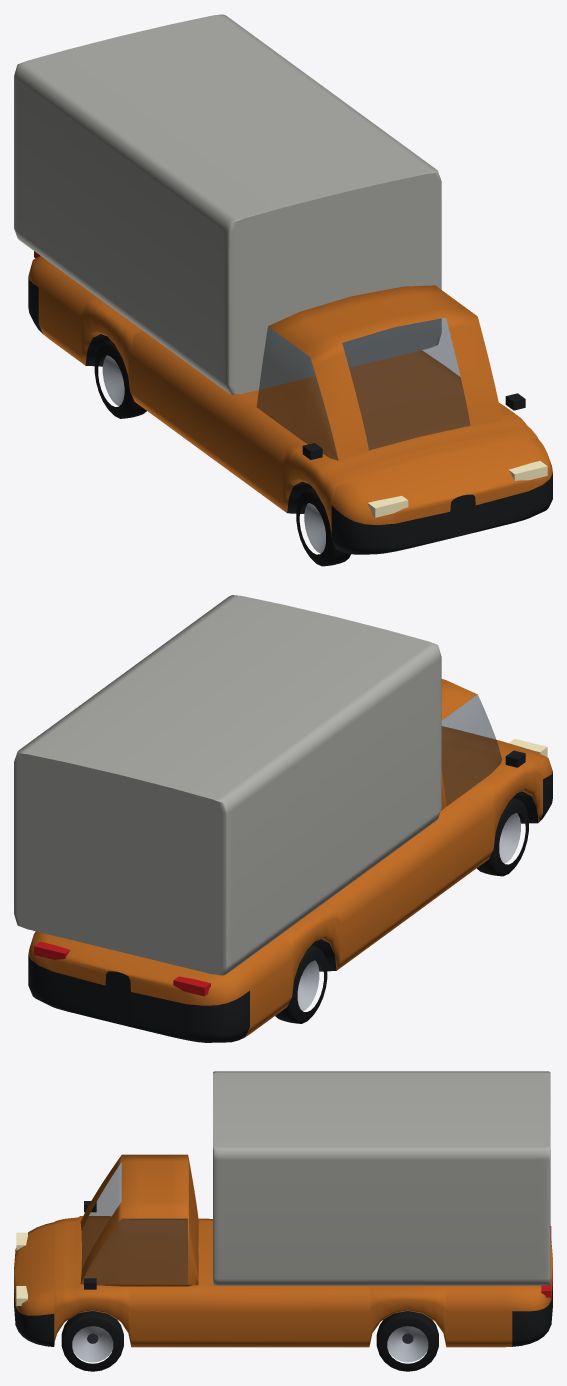
The model's file is desktop.glb.
3 renders of one model, top to bottom at view 1: azimuth 30°, elevation 25°; view 2: azimuth 150°, elevation 25°; view 3: azimuth 270°, elevation 25°, orthographic. The views are drawn at different scales.
Visible parts, largest first — view 1: body, glass, tyre_fr, tyre_rr, rim_rr, rim_fr; view 2: body, glass, tyre_fr, tyre_rr, rim_rr, rim_fr; view 3: body, glass, tyre_fl, tyre_rl, rim_fl, rim_rl.
Part boxes in pixels (x1,y1,x2,y2): body: (14, 14, 552, 554); glass: (256, 317, 470, 460); tyre_fr: (296, 487, 350, 566); tyre_rr: (94, 340, 146, 418); rim_rr: (102, 355, 124, 405); rim_fr: (304, 503, 325, 553); body: (14, 595, 552, 1042); glass: (441, 695, 501, 805); tyre_fr: (477, 797, 528, 876); tyre_rr: (275, 945, 327, 1023); rim_rr: (297, 960, 319, 1010); rim_fr: (499, 813, 520, 863); body: (14, 1071, 552, 1347); glass: (81, 1162, 187, 1284); tyre_fl: (61, 1311, 123, 1371); tyre_rl: (376, 1311, 438, 1371); rim_fl: (72, 1326, 113, 1362); rim_rl: (387, 1326, 428, 1362).
Size of what is drawn, in the model's own units: 2.34 by 3.02 by 6.5.
